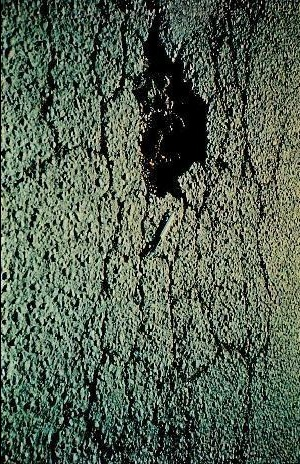pothole: (127, 12, 214, 202)
